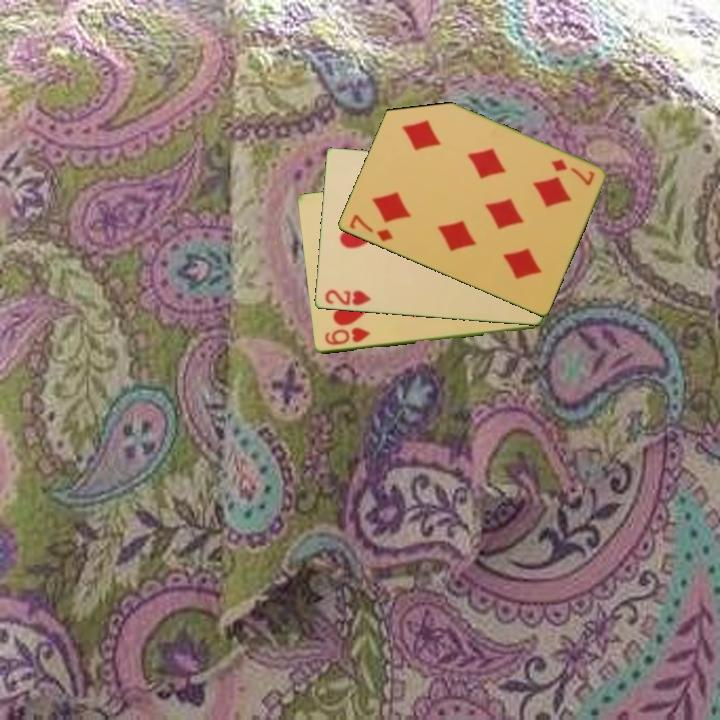2h: (321, 286, 374, 309)
6h: (321, 324, 373, 348)
7d: (346, 211, 395, 245), (547, 156, 597, 189)
